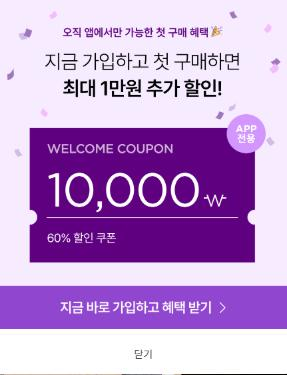button: (0, 285, 287, 329), (0, 335, 287, 375)
popup: (0, 0, 287, 284)
